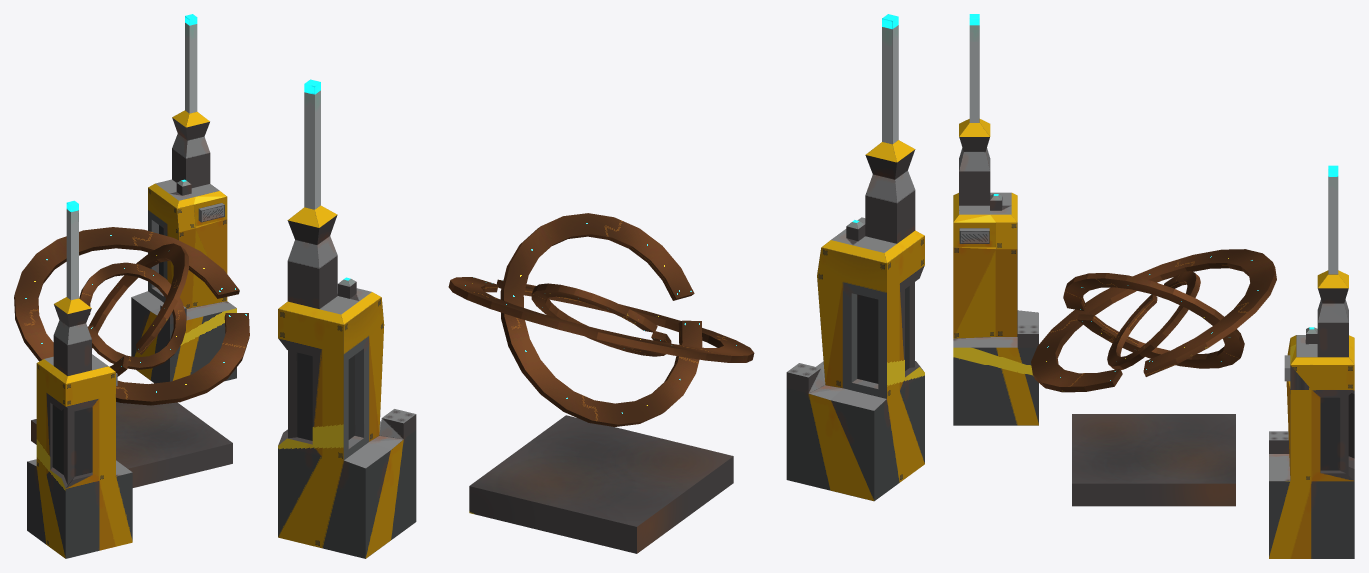
File: gyro.glb
3 views of the same model, side by side, from view 1: azimuth 30°, elevation 25°; view 2: azimuth 150°, elevation 25°; view 3: azimuth 270°, elevation 25° (orthographic). The views are drawn at different scales.
Visible parts, largest first — view 1: rings; view 2: rings; view 3: rings.
Part boxes in pixels (left/top/right/bottom): rings: left=14, top=14, right=249, bottom=558; rings: left=278, top=14, right=924, bottom=558; rings: left=953, top=14, right=1354, bottom=558.
Bounding box in the file's own units: 6.36 × 6.68 × 6.36.
2 materials, 2 textured.
